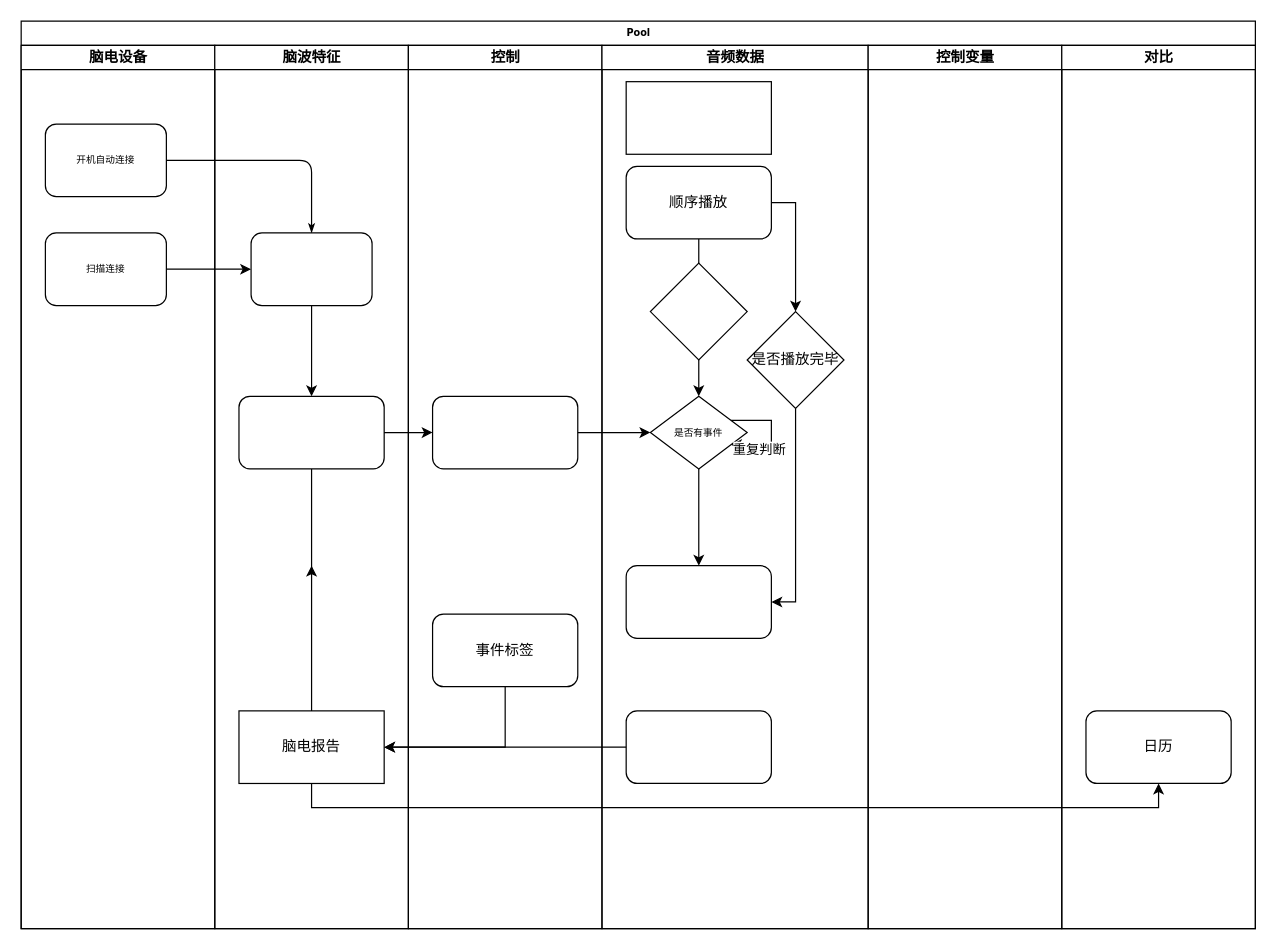
This 1277x950 diagram has some shape labels left out. Each missing label, with the centre of its shape:
"提取特征值" goes at (311,432).
"数据传输" goes at (311,269).
"是否满 2 分钟" goes at (698,311).
"渐变下一首" goes at (698,601).
"设置事件" goes at (504,432).
"音乐标签" goes at (698,746).
"音频列表" goes at (698,117).
